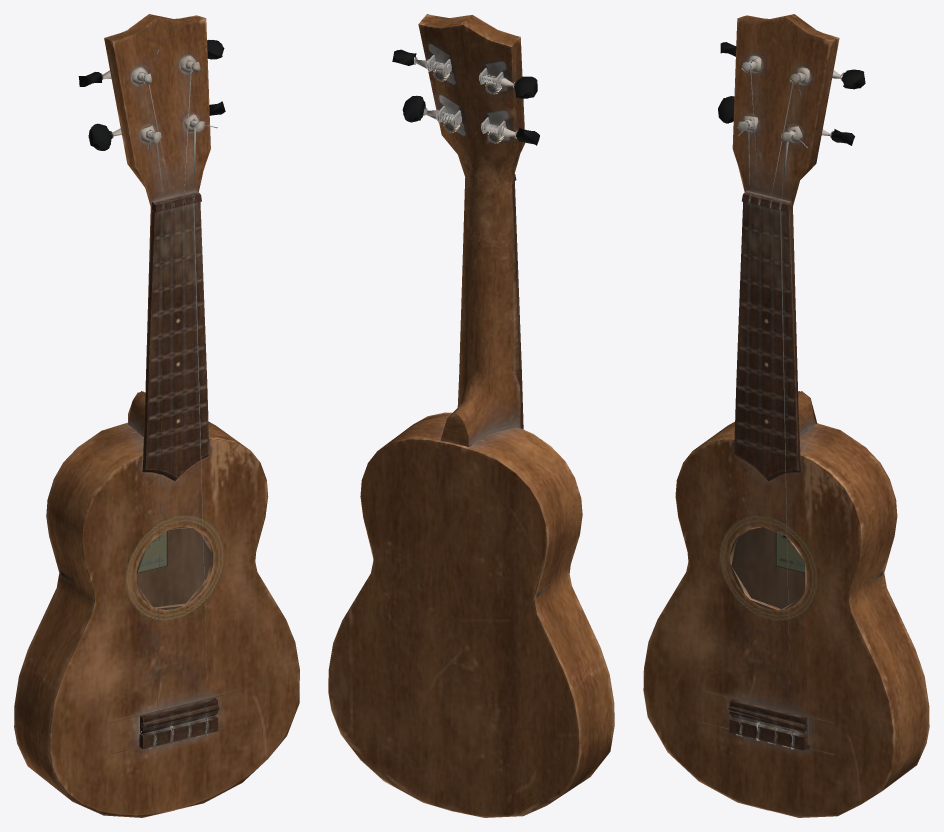
The model's file is Ukulele_01.glb.
3 renders of one model, left to right at view 1: azimuth 30°, elevation 25°; view 2: azimuth 150°, elevation 25°; view 3: azimuth 330°, elevation 25°, orthographic.
Parts seen in each view (by area): view 1: Ukulele_01; view 2: Ukulele_01; view 3: Ukulele_01.
Part boxes in pixels (<box>): Ukulele_01: <box>14,14,299,817</box>; Ukulele_01: <box>328,14,614,817</box>; Ukulele_01: <box>643,14,929,817</box>.
Bounding box in the file's own units: 0.1765 × 0.5267 × 0.0508.
Materials: 1 (1 with a texture image).
